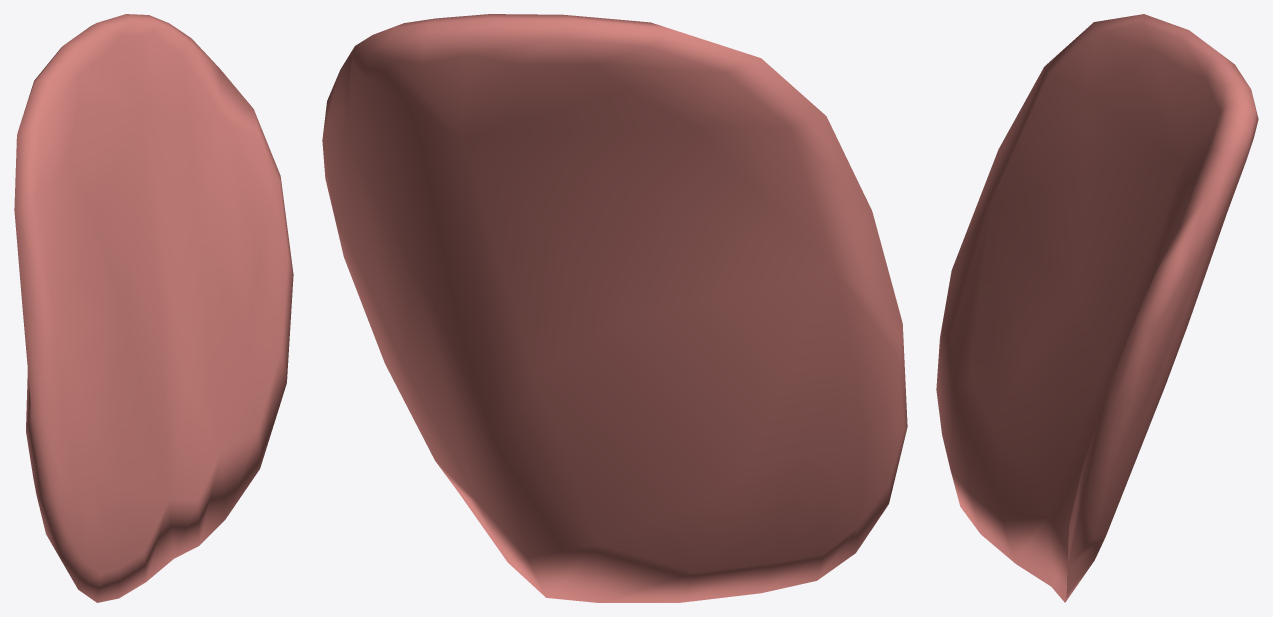
The picture shows the model from 3 angles, left to right: view 1: azimuth 30°, elevation 25°; view 2: azimuth 150°, elevation 25°; view 3: azimuth 270°, elevation 25°; orthographic projection. The views are drawn at different scales.
Visible parts, largest first — view 1: ZA_02ebbe1c67176e56; view 2: ZA_02ebbe1c67176e56; view 3: ZA_02ebbe1c67176e56.
Part boxes in pixels (box(x1,y1,x2,y2)): ZA_02ebbe1c67176e56: box(14, 14, 293, 602); ZA_02ebbe1c67176e56: box(322, 14, 907, 602); ZA_02ebbe1c67176e56: box(936, 14, 1258, 602).
Bounding box in the file's own units: 0.00501 × 0.00691 × 0.00379.
